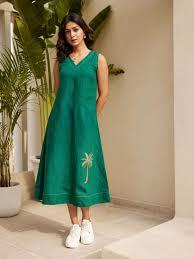dress: (31, 48, 114, 209)
